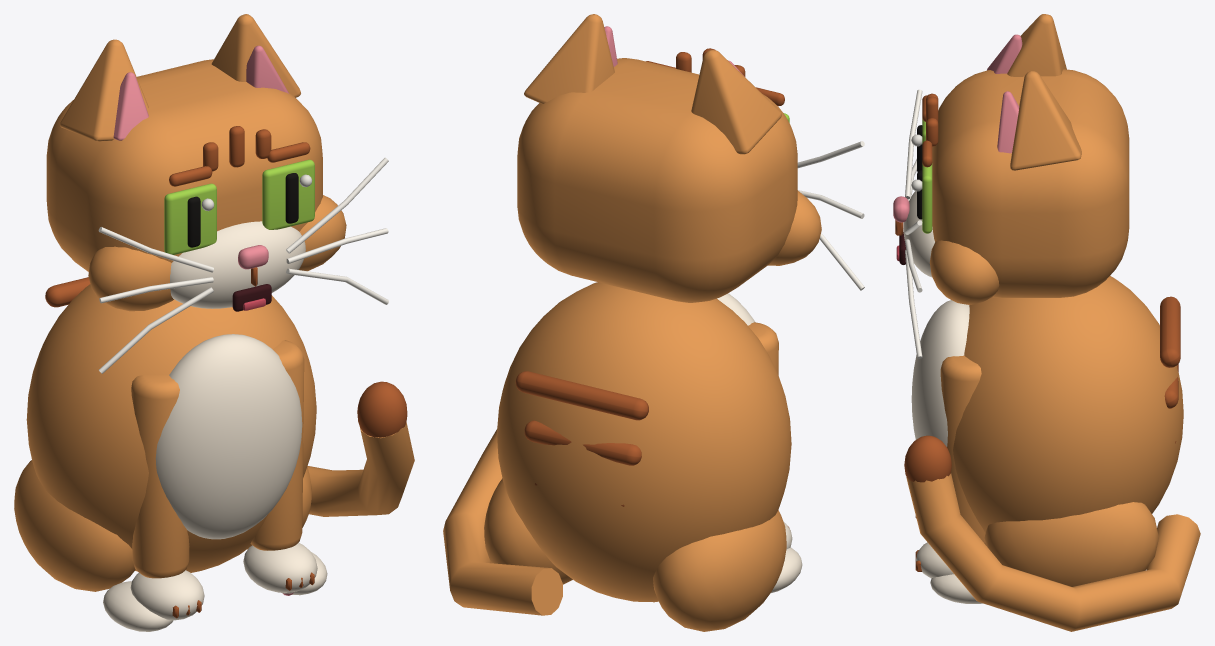
The model's file is gato.glb.
3 renders of one model, left to right at view 1: azimuth 30°, elevation 25°; view 2: azimuth 150°, elevation 25°; view 3: azimuth 270°, elevation 25°, orthographic. The views are drawn at different scales.
Visible parts, largest first — view 1: gato_corpo, gato_rosto, Icosphere, Icosphere.001, Cone, Icosphere.011, tubo, Icosphere.009, Cone.003, Cone.001, Icosphere.007, Cone.005 (+22 smaller); view 2: gato_corpo, gato_rosto, Icosphere.001, tubo, Cone.003, Cone.005, Icosphere.003, Cube, Icosphere.009, Cube.001, Icosphere.002, Cone; view 3: gato_corpo, gato_rosto, tubo, Icosphere.003, Icosphere, Cone.005, Icosphere.010, Cone.001, Cone.003, Icosphere.005, Cube, Icosphere.011 (+7 smaller).
Boxes of the visible parts, <box> form: gato_corpo: <box>26,284,316,572</box>; gato_rosto: <box>46,59,322,271</box>; Icosphere: <box>155,334,302,539</box>; Icosphere.001: <box>14,460,135,591</box>; Cone: <box>131,374,189,578</box>; Icosphere.011: <box>170,221,305,308</box>; tubo: <box>307,422,414,516</box>; Icosphere.009: <box>88,246,173,311</box>; Cone.003: <box>60,39,148,141</box>; Cone.001: <box>250,340,304,550</box>; Icosphere.007: <box>243,542,317,592</box>; Cone.005: <box>211,14,300,97</box>; gato_corpo: <box>497,282,791,602</box>; gato_rosto: <box>517,58,797,302</box>; Icosphere.001: <box>653,510,786,631</box>; tubo: <box>443,429,562,615</box>; Cone.003: <box>691,50,781,154</box>; Cone.005: <box>524,14,614,103</box>; Icosphere.003: <box>484,478,572,584</box>; Cube: <box>515,371,648,420</box>; Icosphere.009: <box>768,190,821,265</box>; Cube.001: <box>524,420,641,465</box>; Icosphere.002: <box>771,547,802,592</box>; Cone: <box>748,322,778,375</box>; gato_corpo: <box>953,276,1183,532</box>; gato_rosto: <box>932,69,1129,297</box>; tubo: <box>906,473,1200,631</box>; Icosphere.003: <box>984,502,1158,586</box>; Icosphere: <box>911,300,969,446</box>; Cone.005: <box>1010,71,1081,170</box>; Icosphere.010: <box>929,240,999,304</box>; Cone.001: <box>940,355,985,544</box>; Cone.003: <box>1007,14,1066,76</box>; Icosphere.005: <box>904,435,951,482</box>; Cube: <box>1160,296,1180,367</box>; Icosphere.011: <box>903,191,934,277</box>.
Bounding box in the file's own units: 0.8986 × 1.4 × 0.7491.
